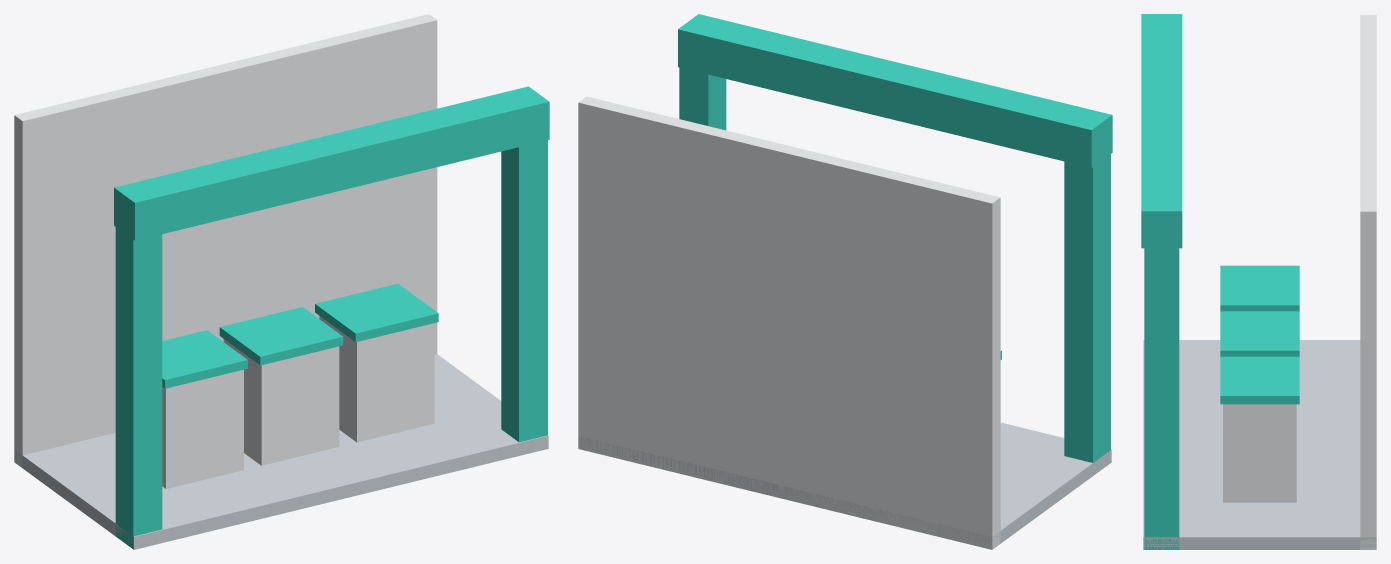
3 views of the same model, side by side, from view 1: azimuth 30°, elevation 25°; view 2: azimuth 150°, elevation 25°; view 3: azimuth 270°, elevation 25° (orthographic). The views are drawn at different scales.
Visible parts, largest first — view 1: Exhibition Booth Concept; view 2: Exhibition Booth Concept; view 3: Exhibition Booth Concept.
Boxes of the visible parts, x1,y1,x2,y2 form: Exhibition Booth Concept: (14,14,549,549); Exhibition Booth Concept: (578,14,1112,549); Exhibition Booth Concept: (1141,14,1376,549).
Size of the model in its own units: 4 by 3.2 by 2.01.
